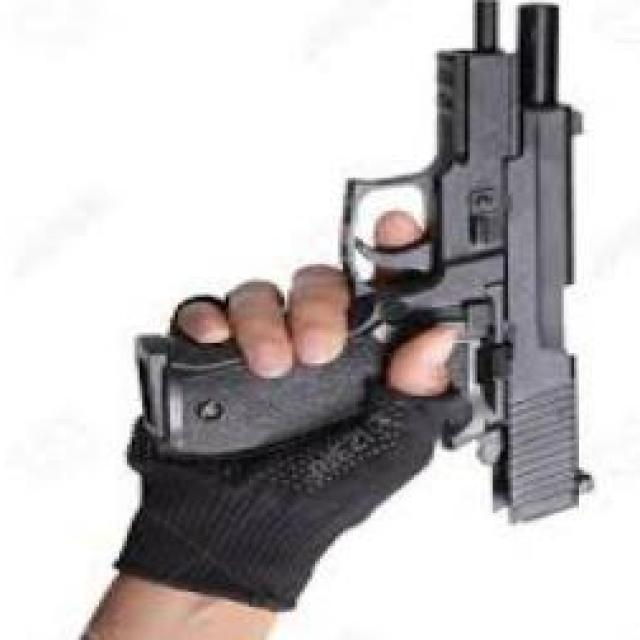pistol: (129, 0, 592, 523)
